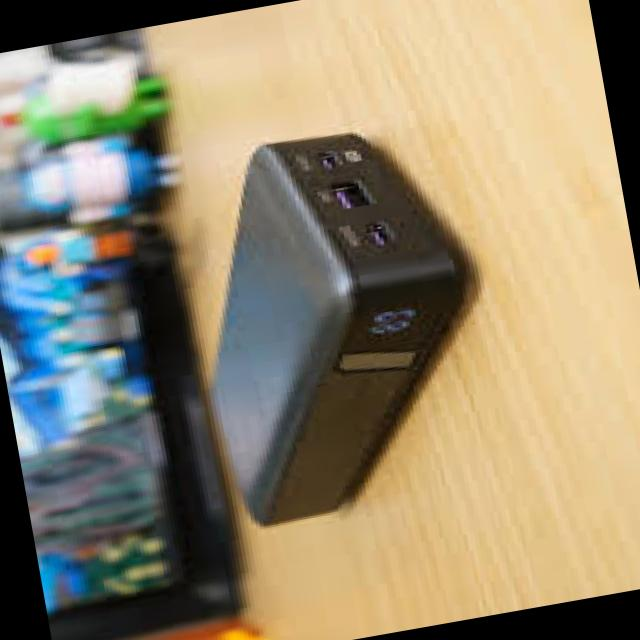power_bank: (163, 109, 510, 532)
